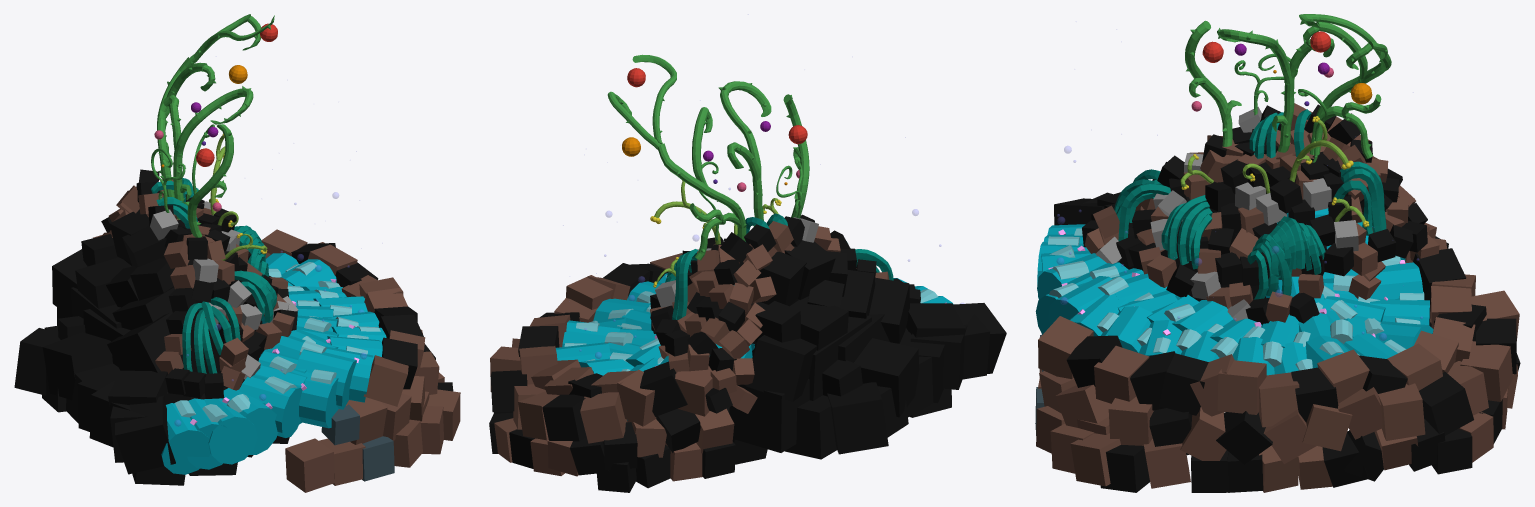
3 views of the same model, side by side, from view 1: azimuth 30°, elevation 25°; view 2: azimuth 150°, elevation 25°; view 3: azimuth 270°, elevation 25° (orthographic). The views are drawn at different scales.
Visible parts, largest first — view 1: node_MeshObject1886744576-PolyPaper8, node_MeshObject-1836143616-PolyPaper20, node_MeshObject-592196608-PolyPaper21, node_MeshObject742586368-PolyPaper9, node_MeshObject1314665472-PolyPaper10; view 2: node_MeshObject-1836143616-PolyPaper20, node_MeshObject1886744576-PolyPaper8, node_MeshObject-592196608-PolyPaper21, node_MeshObject742586368-PolyPaper9, node_MeshObject1314665472-PolyPaper10; view 3: node_MeshObject1886744576-PolyPaper8, node_MeshObject-592196608-PolyPaper21, node_MeshObject742586368-PolyPaper9, node_MeshObject-1836143616-PolyPaper20, node_MeshObject1314665472-PolyPaper10.
Part boxes in pixels (box(x1,y1,x2,y2)): node_MeshObject1886744576-PolyPaper8: box(101, 141, 460, 492); node_MeshObject-1836143616-PolyPaper20: box(14, 185, 289, 485); node_MeshObject-592196608-PolyPaper21: box(136, 14, 278, 343); node_MeshObject742586368-PolyPaper9: box(136, 25, 298, 398); node_MeshObject1314665472-PolyPaper10: box(154, 23, 277, 254); node_MeshObject-1836143616-PolyPaper20: box(489, 240, 1006, 492); node_MeshObject1886744576-PolyPaper8: box(490, 179, 953, 443); node_MeshObject-592196608-PolyPaper21: box(607, 54, 850, 315); node_MeshObject742586368-PolyPaper9: box(620, 83, 920, 356); node_MeshObject1314665472-PolyPaper10: box(622, 68, 807, 287); node_MeshObject1886744576-PolyPaper8: box(1035, 70, 1519, 492); node_MeshObject-592196608-PolyPaper21: box(1132, 14, 1391, 286); node_MeshObject742586368-PolyPaper9: box(1082, 20, 1427, 324); node_MeshObject-1836143616-PolyPaper20: box(1054, 116, 1520, 492); node_MeshObject1314665472-PolyPaper10: box(1181, 31, 1372, 227).
Bounding box in the file's own units: 9.46 × 9.12 × 9.53.
